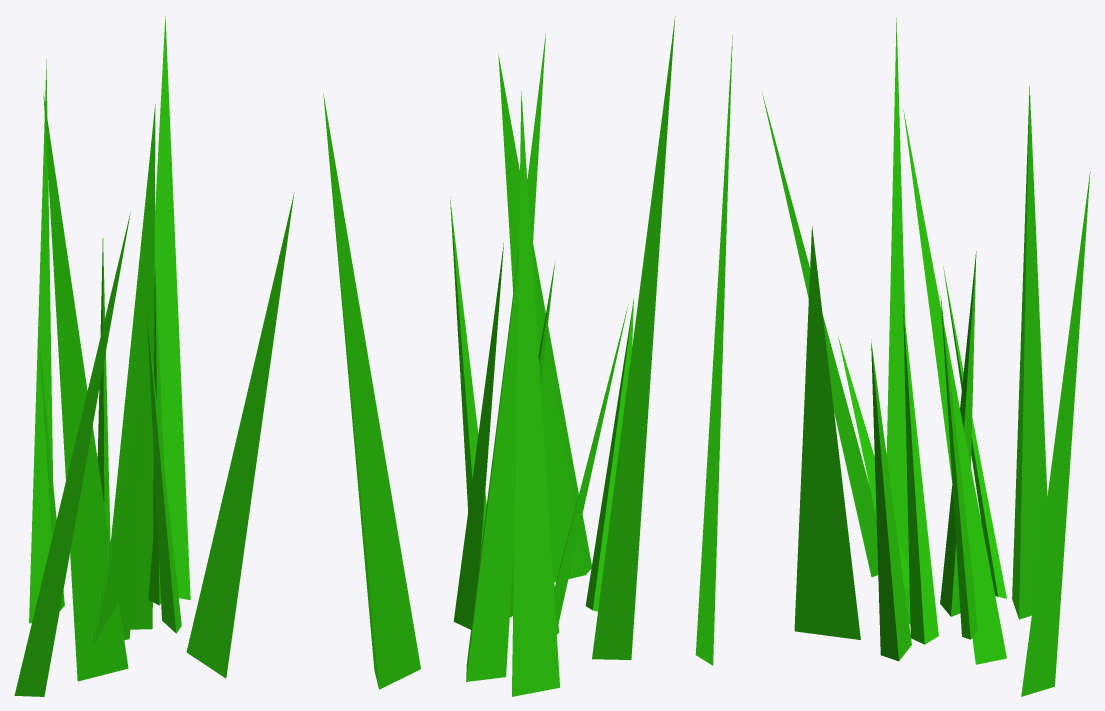
The model's file is grass1.FBX.
3 views of the same model, side by side, from view 1: azimuth 30°, elevation 25°; view 2: azimuth 150°, elevation 25°; view 3: azimuth 270°, elevation 25° (orthographic). The views are drawn at different scales.
Visible parts, largest first — view 1: Grass3D_10; view 2: Grass3D_10; view 3: Grass3D_10.
Part boxes in pixels (left/top/right/bottom): Grass3D_10: left=14, top=16, right=294, bottom=696; Grass3D_10: left=323, top=16, right=732, bottom=696; Grass3D_10: left=762, top=17, right=1090, bottom=696.
Bounding box in the file's own units: 19.52 × 44.51 × 22.76.
